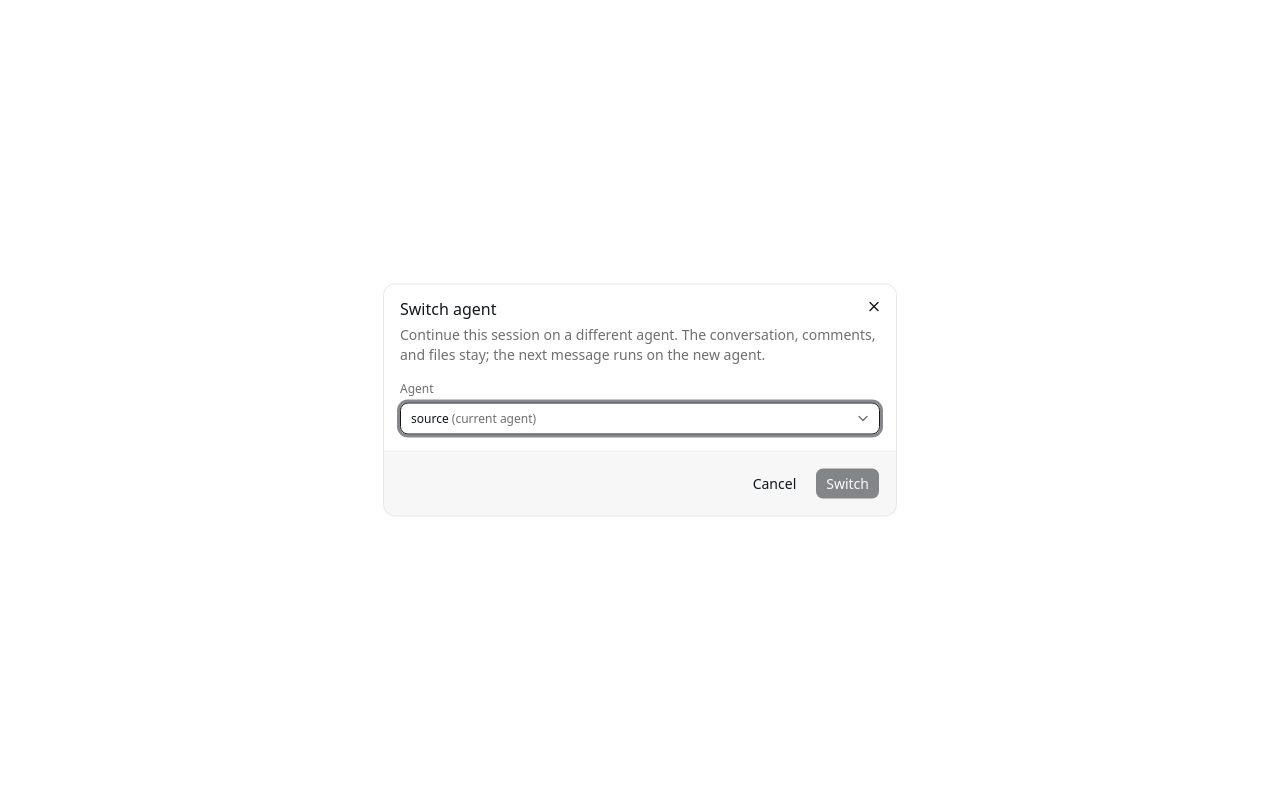
Test case: SwitchAgentDialog › hides fork-only preamble targets (cursor/opencode) but offers hermes
The width and height of the screenshot is (1280, 800).
Click the dropdown with test id "switch-agent-select": (430, 418) x1=400 y1=402 x2=880 y2=434
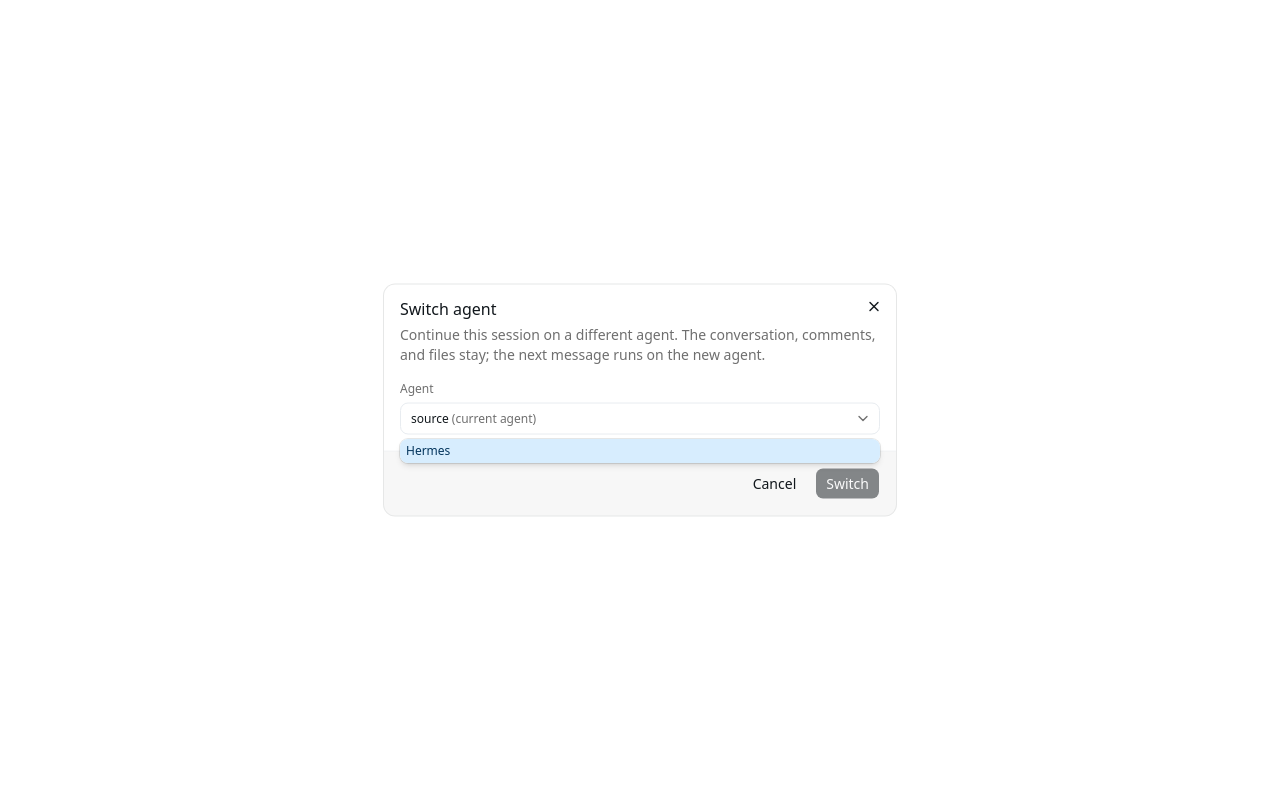
Now the option with test id "switch-agent-option-ag_hermes" is shown, box x1=400 y1=439 x2=880 y2=463
